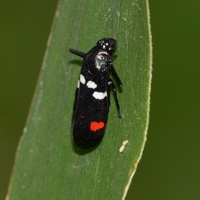insect: (69, 38, 122, 147)
